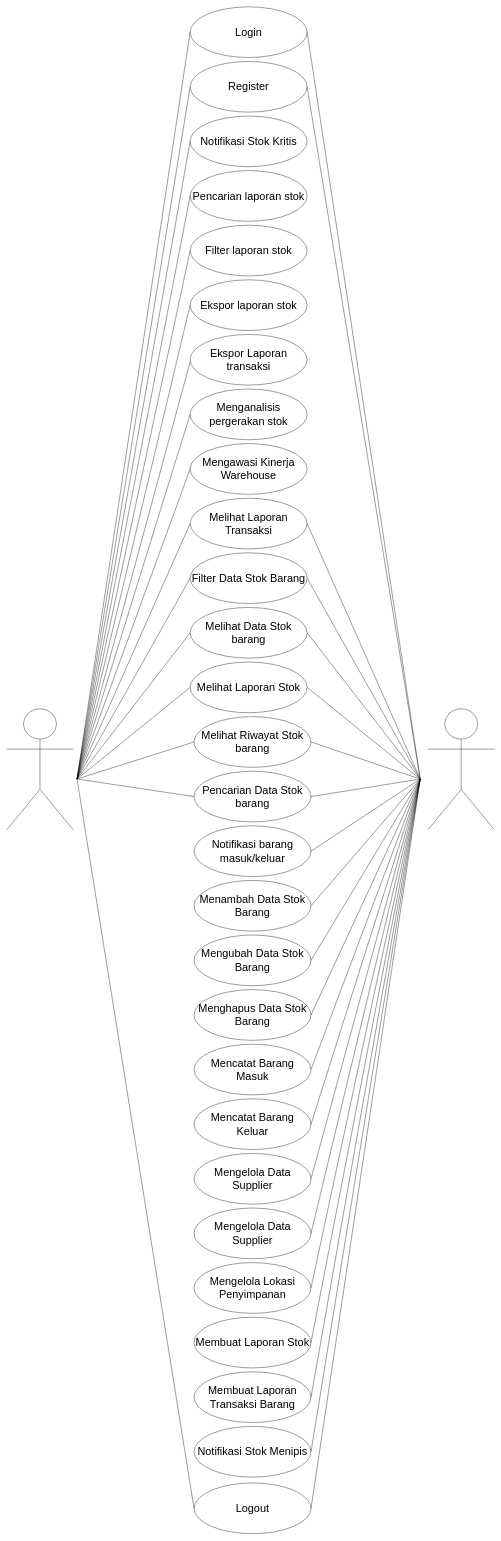
The diagram is 501 pixels wide and 1541 high, and some of its shapes have lost their labels. The shapes that lost their labels are listed below. From the top down, each one's centre as x and y in pixels, then its label:
the point at 39,769: Manager
the point at 461,769: Admin
